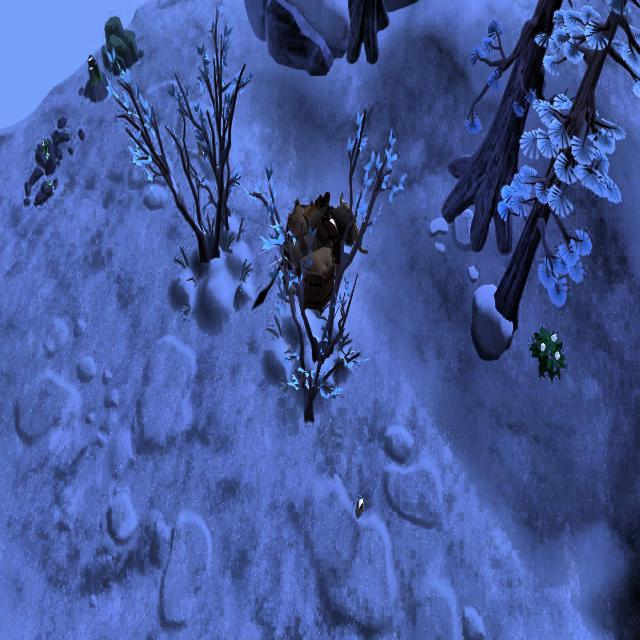fiber_t3: (530, 327, 564, 384)
ore_t3: (85, 51, 104, 91)
rock_t3: (100, 9, 144, 90)
